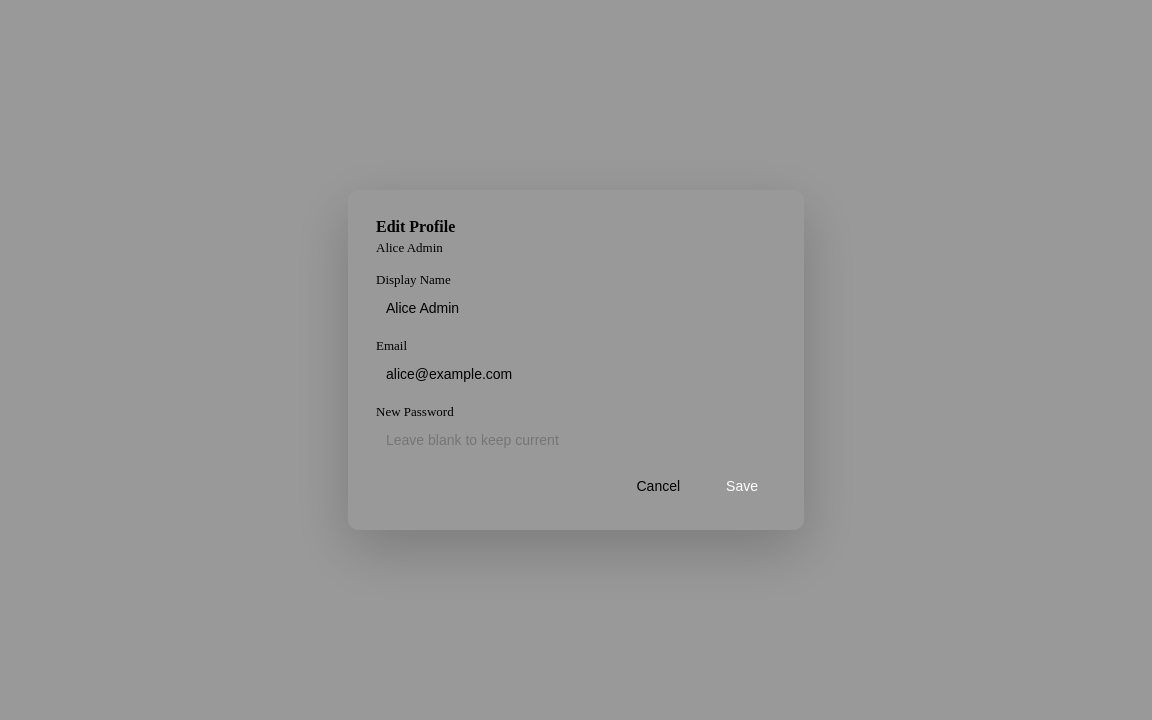
Test: EditProfileModal — validation › shows email error for invalid email (super_admin)
Replace the text in the field labelled "Email" with "not-an-email". click: (576, 374)
box: [376,358,776,390]
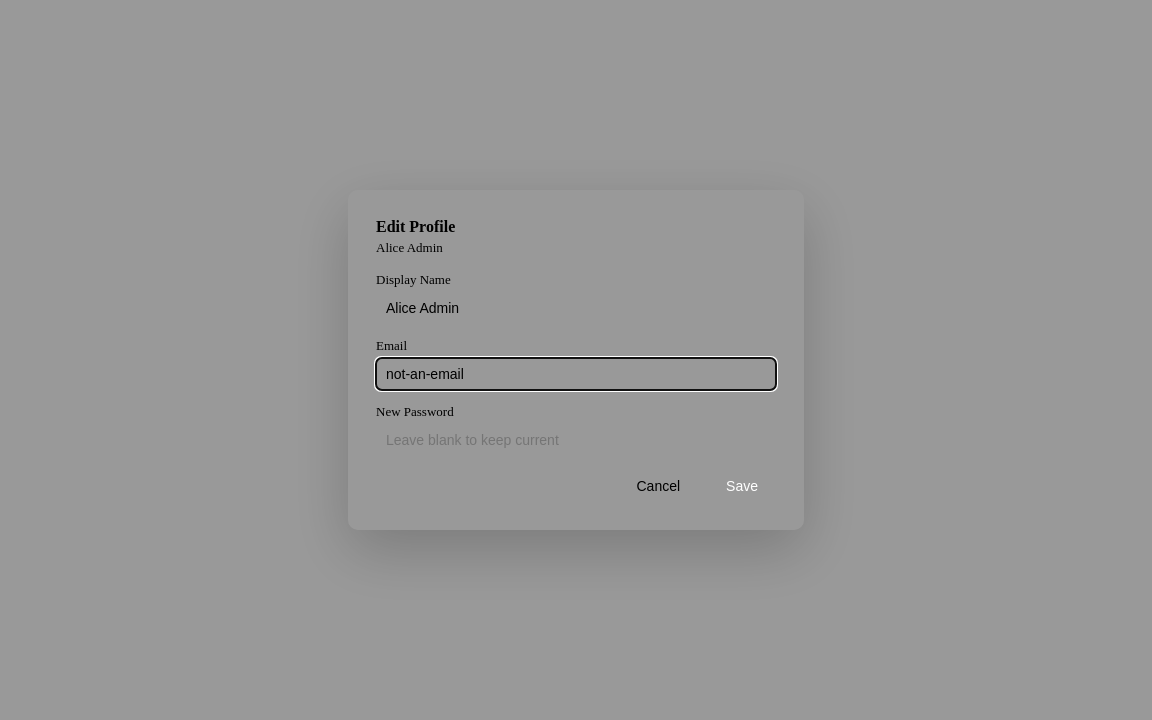
Click the button "Save". click: (742, 486)
box: [708,470,776,502]
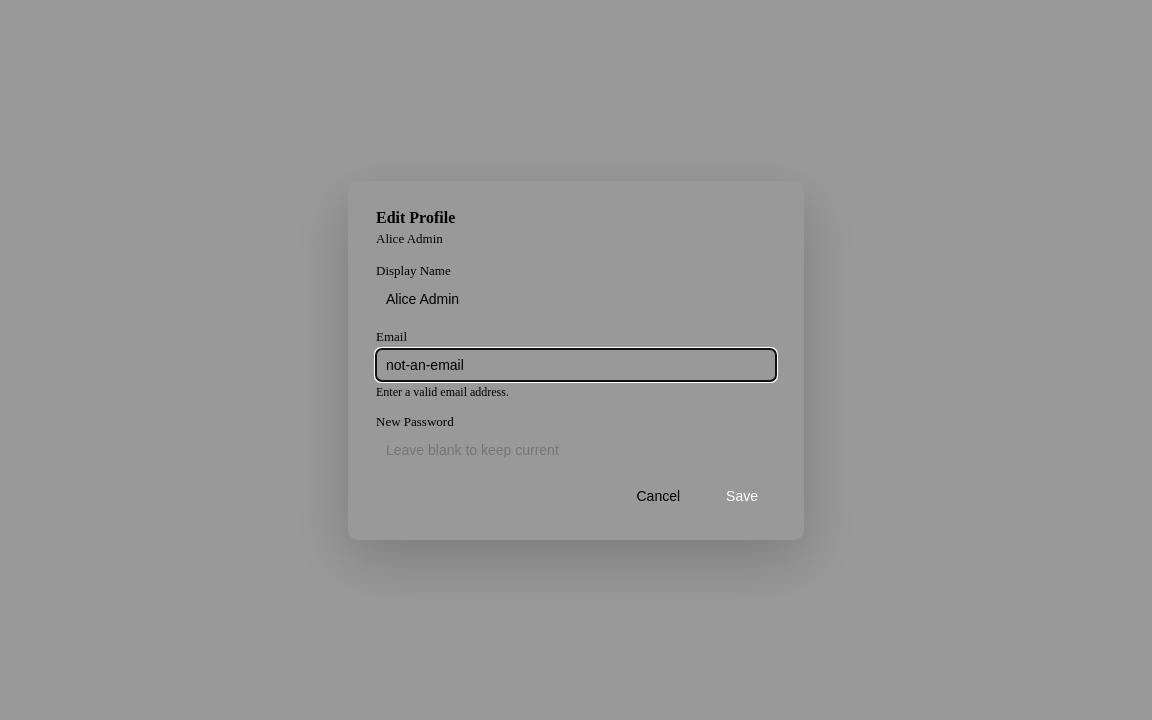
Expected: the text "Enter a valid email address." is shown, [376,384,509,398]
